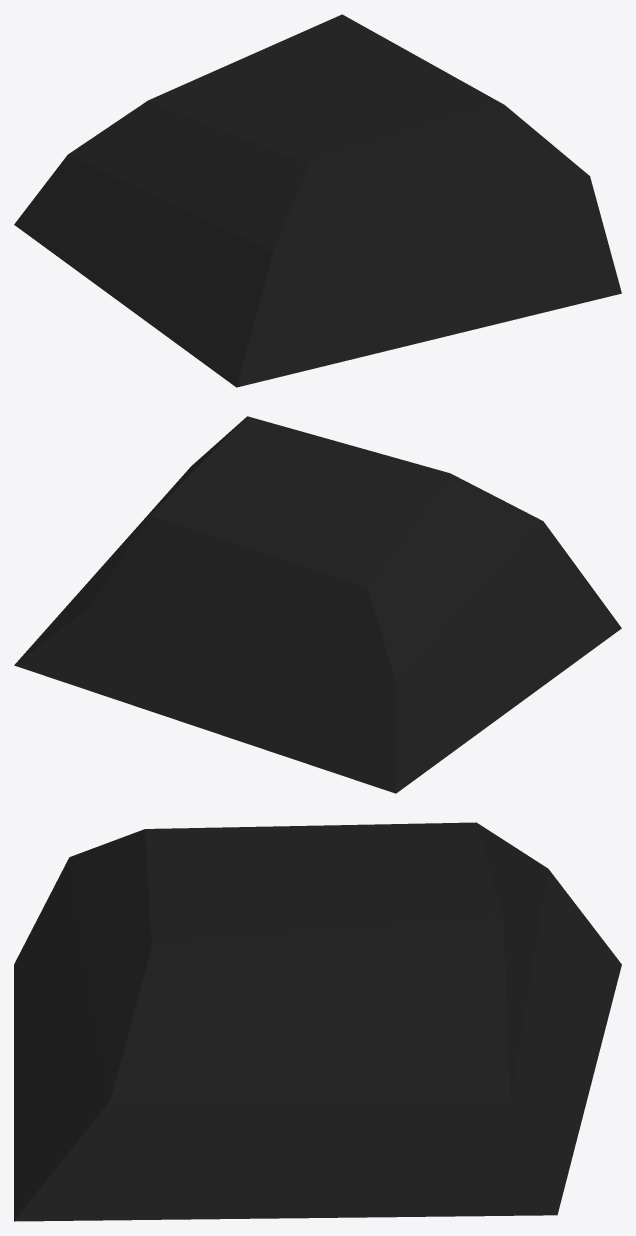
Rendered from smallrock.glb.
3 renders of one model, top to bottom at view 1: azimuth 30°, elevation 25°; view 2: azimuth 150°, elevation 25°; view 3: azimuth 270°, elevation 25°, orthographic. The views are drawn at different scales.
Visible parts, largest first — view 1: Cube; view 2: Cube; view 3: Cube.
Boxes of the visible parts, bbox=[...] form: Cube: bbox=[14, 14, 621, 387]; Cube: bbox=[14, 416, 621, 793]; Cube: bbox=[14, 822, 621, 1221].
Size of the model in its own units: 1.74 by 0.716 by 1.67.
1 material, 1 textured.
